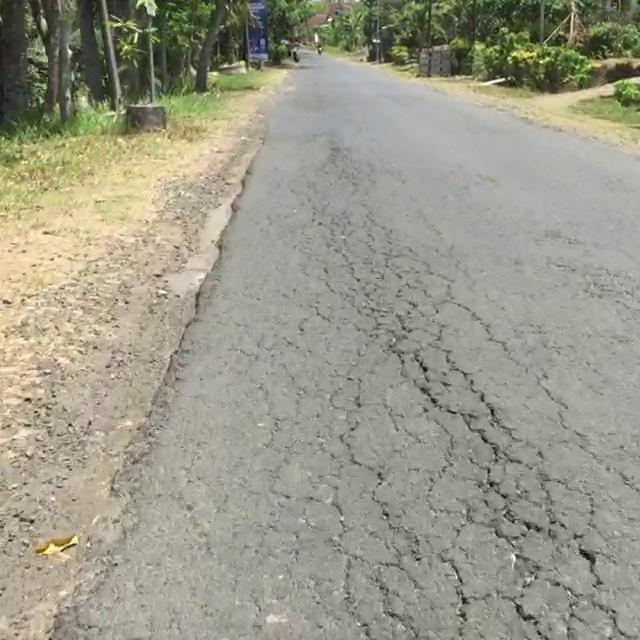retak_kulit_buaya: (272, 188, 607, 640), (378, 410, 640, 640), (601, 268, 640, 378)
